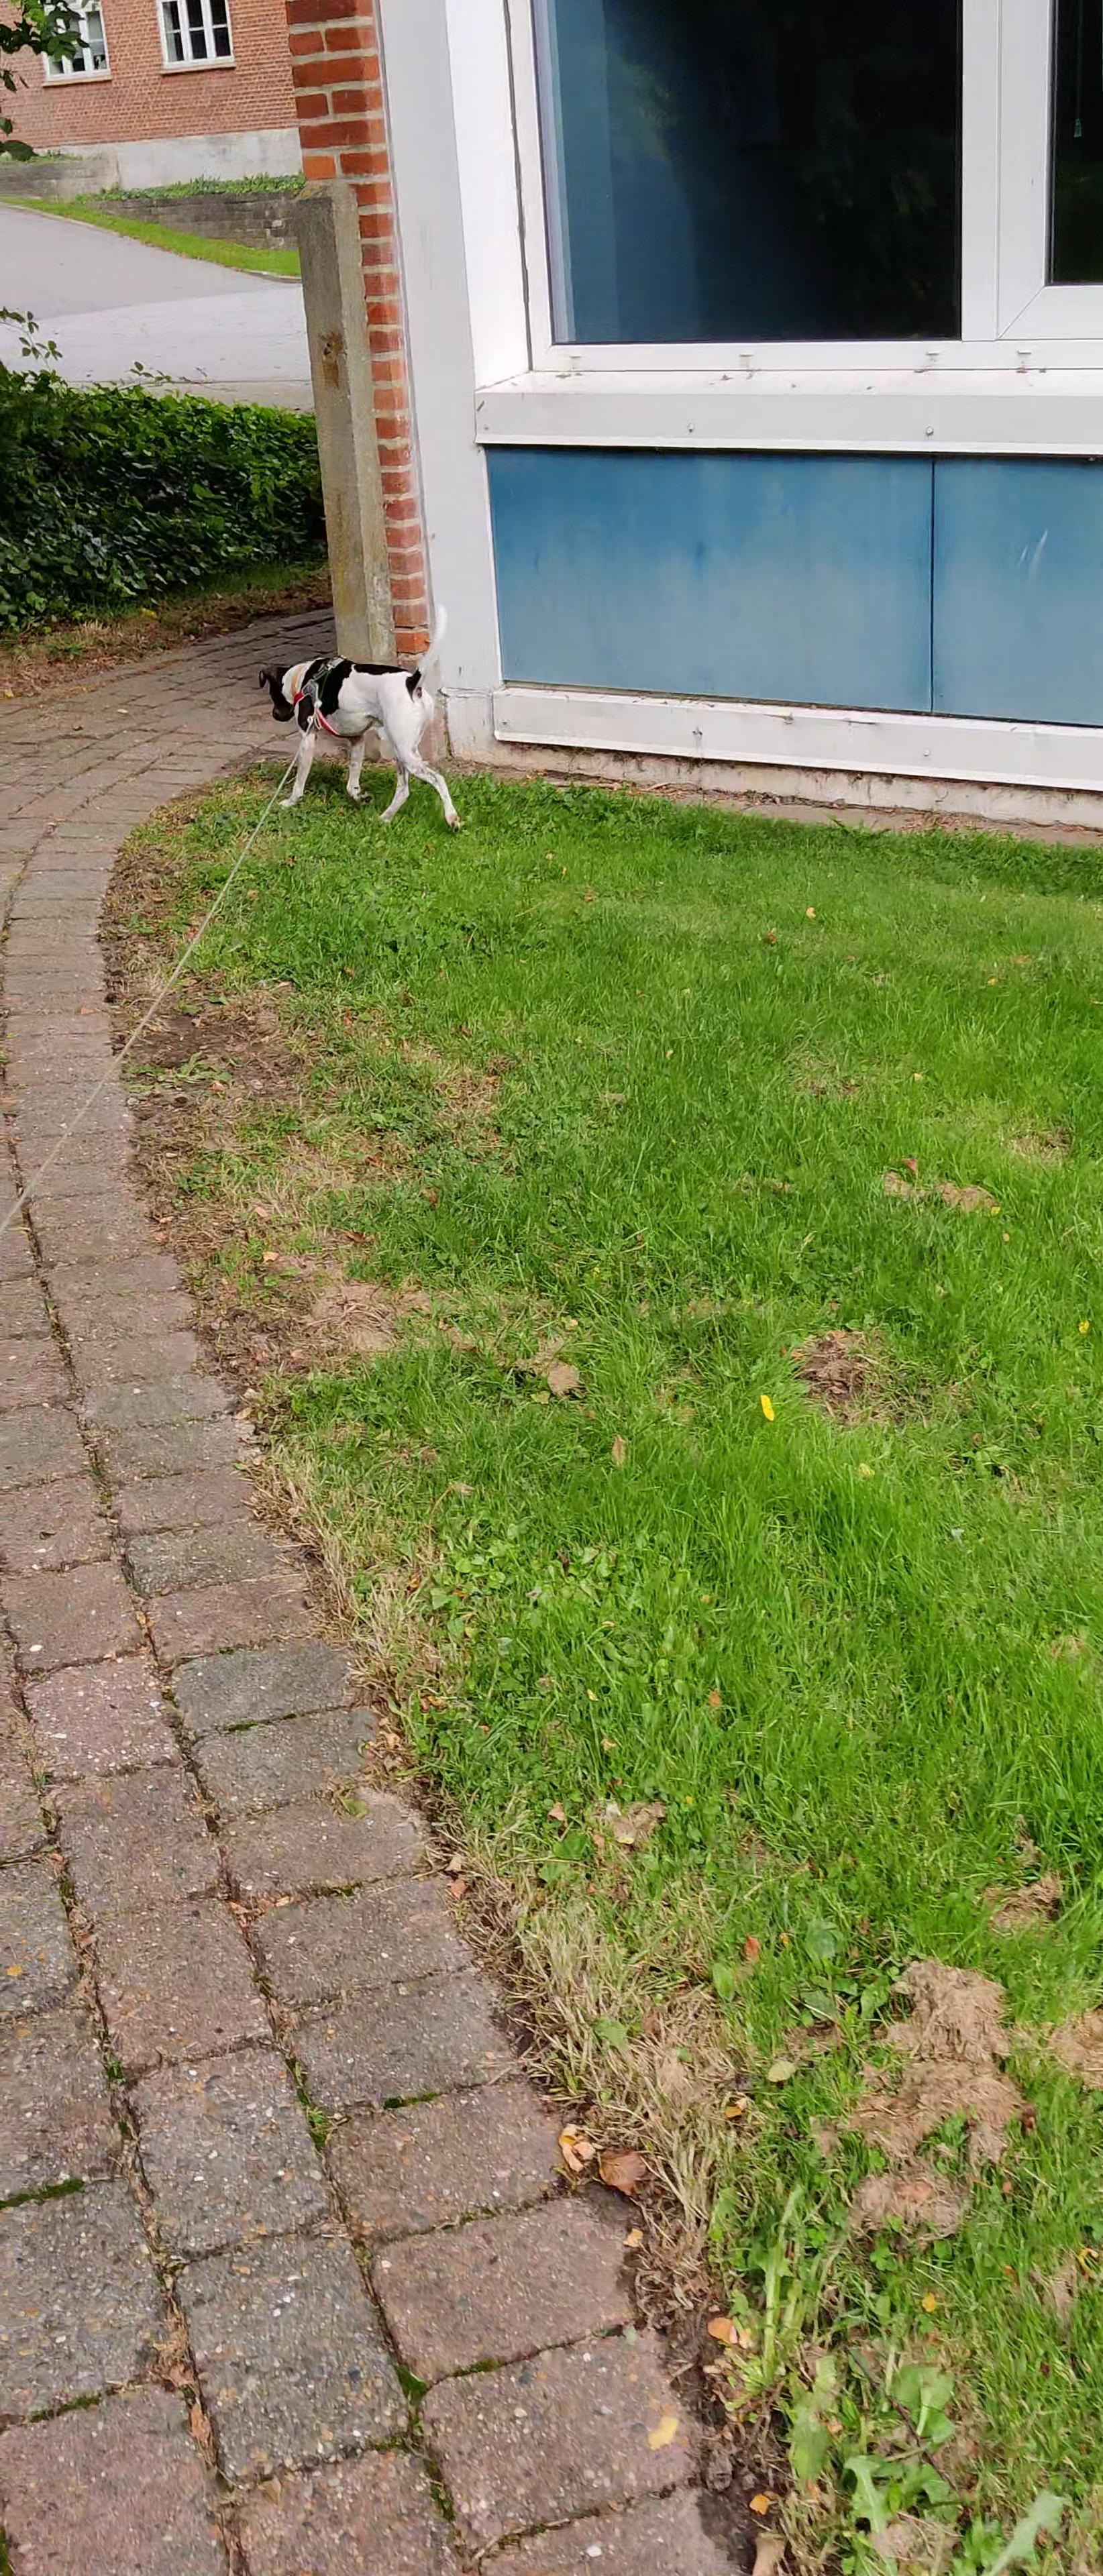Dog: (248, 600, 475, 835)
